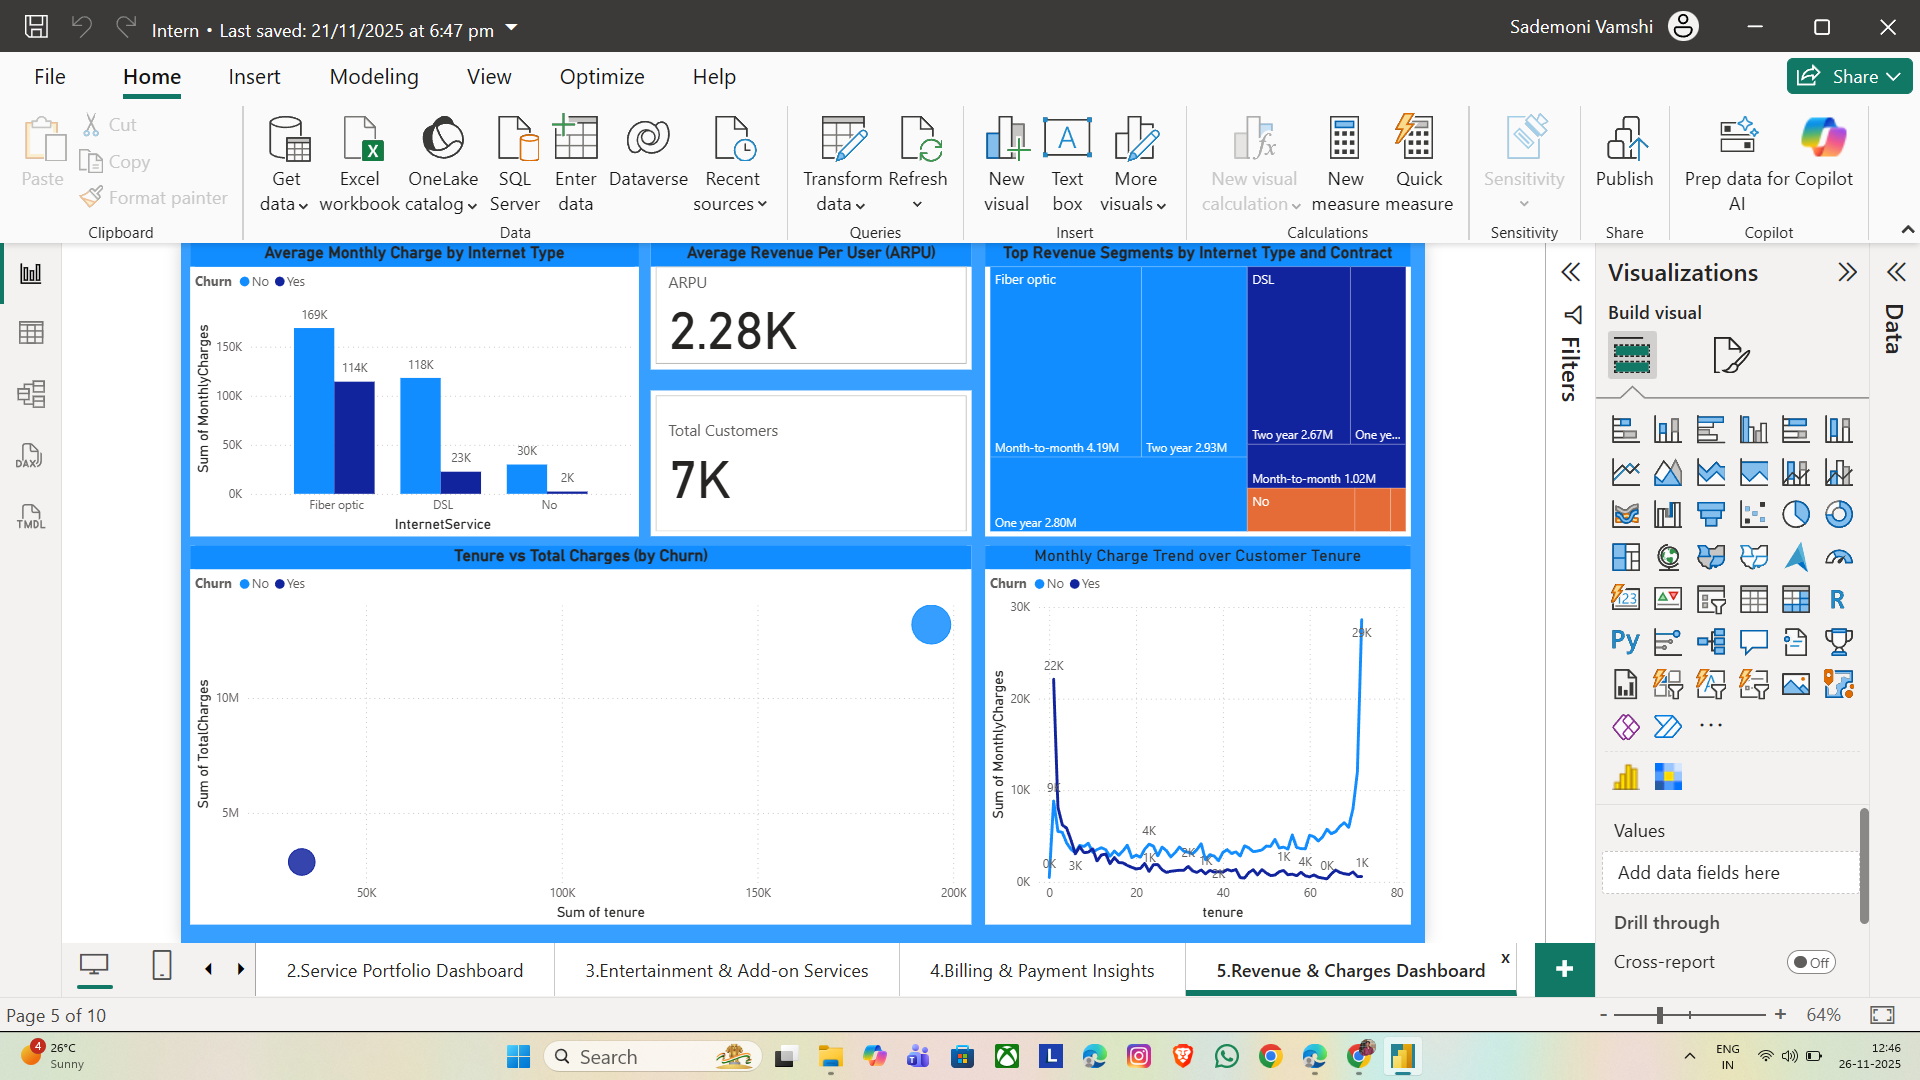

The dashboard page shown, as its layout file describes it:
{"tool":"powerbi","page":{"name":"5.Revenue & Charges Dashboard","canvas":[1280,720],"ordinal":4},"visuals":[{"type":"clusteredColumnChart","title":"Average Monthly Charge by Internet Type","fields":{"Category":["Telco_Customer_Churn.InternetService"],"Y":["Sum(Telco_Customer_Churn.MonthlyCharges)"],"Series":["Telco_Customer_Churn.Churn"]},"box":[10,0,462,302],"z":0},{"type":"scatterChart","title":"Tenure vs Total Charges (by Churn)","fields":{"X":["Sum(Telco_Customer_Churn.tenure)"],"Y":["Sum(Telco_Customer_Churn.TotalCharges)"],"Series":["Telco_Customer_Churn.Churn"],"Size":["Sum(Telco_Customer_Churn.MonthlyCharges)"]},"box":[10,312,804,390],"z":1000},{"type":"treemap","title":"Top Revenue Segments by Internet Type and Contract","fields":{"Group":["Telco_Customer_Churn.InternetService"],"Details":["Telco_Customer_Churn.Contract"],"Values":["Sum(Telco_Customer_Churn.TotalCharges)"]},"box":[828,0,438,302],"z":2000},{"type":"cardVisual","title":"Average Revenue Per User (ARPU)","fields":{"Data":["Telco_Customer_Churn.ARPU"]},"box":[484,0,330,130],"z":3000},{"type":"lineChart","title":"Monthly Charge Trend over Customer Tenure","fields":{"Category":["Telco_Customer_Churn.tenure"],"Y":["Sum(Telco_Customer_Churn.MonthlyCharges)"],"Series":["Telco_Customer_Churn.Churn"]},"box":[828,312,438,390],"z":4000},{"type":"cardVisual","fields":{"Data":["Telco_Customer_Churn.Total Customers"]},"box":[484,152,330,150],"z":5000}]}

Visuals, with their boxes on the page's 1280x720 design canvas (x1, y1, x2, y2). These are canvas units, not pixel positions in the 1920x1080 screenshot, which may show the page scaled, cropped or inside an application window:
"Average Monthly Charge by Internet Type" clusteredColumnChart: <region>10, 0, 472, 302</region>
"Tenure vs Total Charges (by Churn)" scatterChart: <region>10, 312, 814, 702</region>
"Top Revenue Segments by Internet Type and Contract" treemap: <region>828, 0, 1266, 302</region>
"Average Revenue Per User (ARPU)" cardVisual: <region>484, 0, 814, 130</region>
"Monthly Charge Trend over Customer Tenure" lineChart: <region>828, 312, 1266, 702</region>
cardVisual - Telco_Customer_Churn.Total Customers: <region>484, 152, 814, 302</region>
